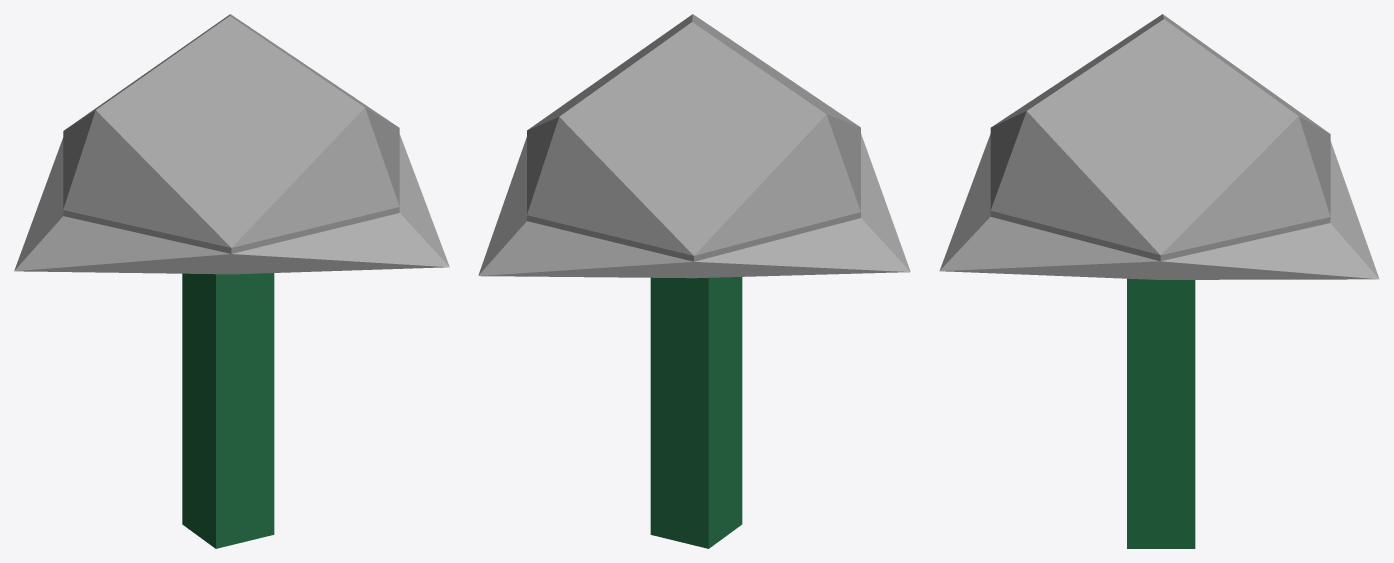
File: Tree_darker_v32.fbx
3 views of the same model, side by side, from view 1: azimuth 30°, elevation 25°; view 2: azimuth 150°, elevation 25°; view 3: azimuth 270°, elevation 25° (orthographic).
Visible parts, largest first — view 1: Tree_darker_v32; view 2: Tree_darker_v32; view 3: Tree_darker_v32.
Boxes of the visible parts, <box> form: Tree_darker_v32: <box>14,14,449,548</box>; Tree_darker_v32: <box>478,14,910,548</box>; Tree_darker_v32: <box>939,14,1379,548</box>.
Bounding box in the file's own units: 22.7 × 28.75 × 22.18.
Materials: 2 (1 with a texture image).
